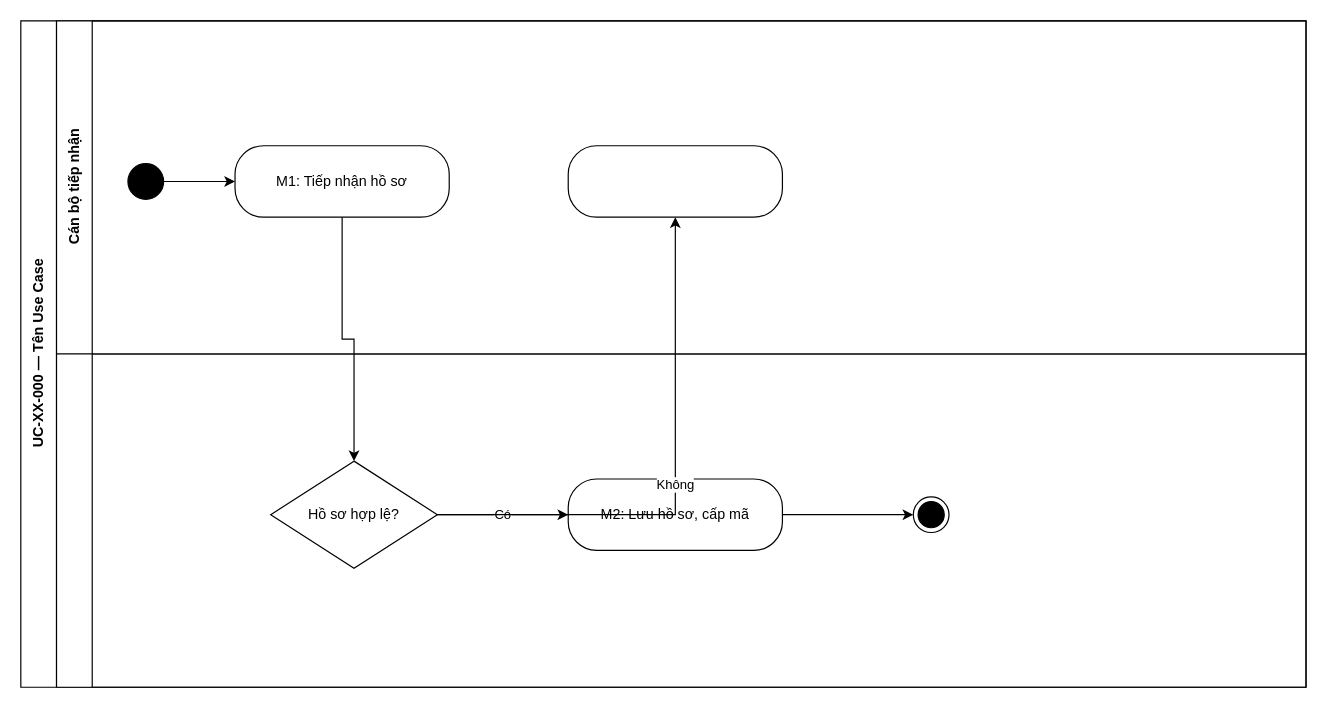
The diagram is 1327 pixels wide and 708 high, and some of its shapes have lost their labels. Here are the shapes that lost their labels. From the top down, the box of each, then its label:
(567, 145, 782, 217): E1.1: Trả hồ sơ kèm lý do
(55, 353, 1306, 687): Hệ thống
